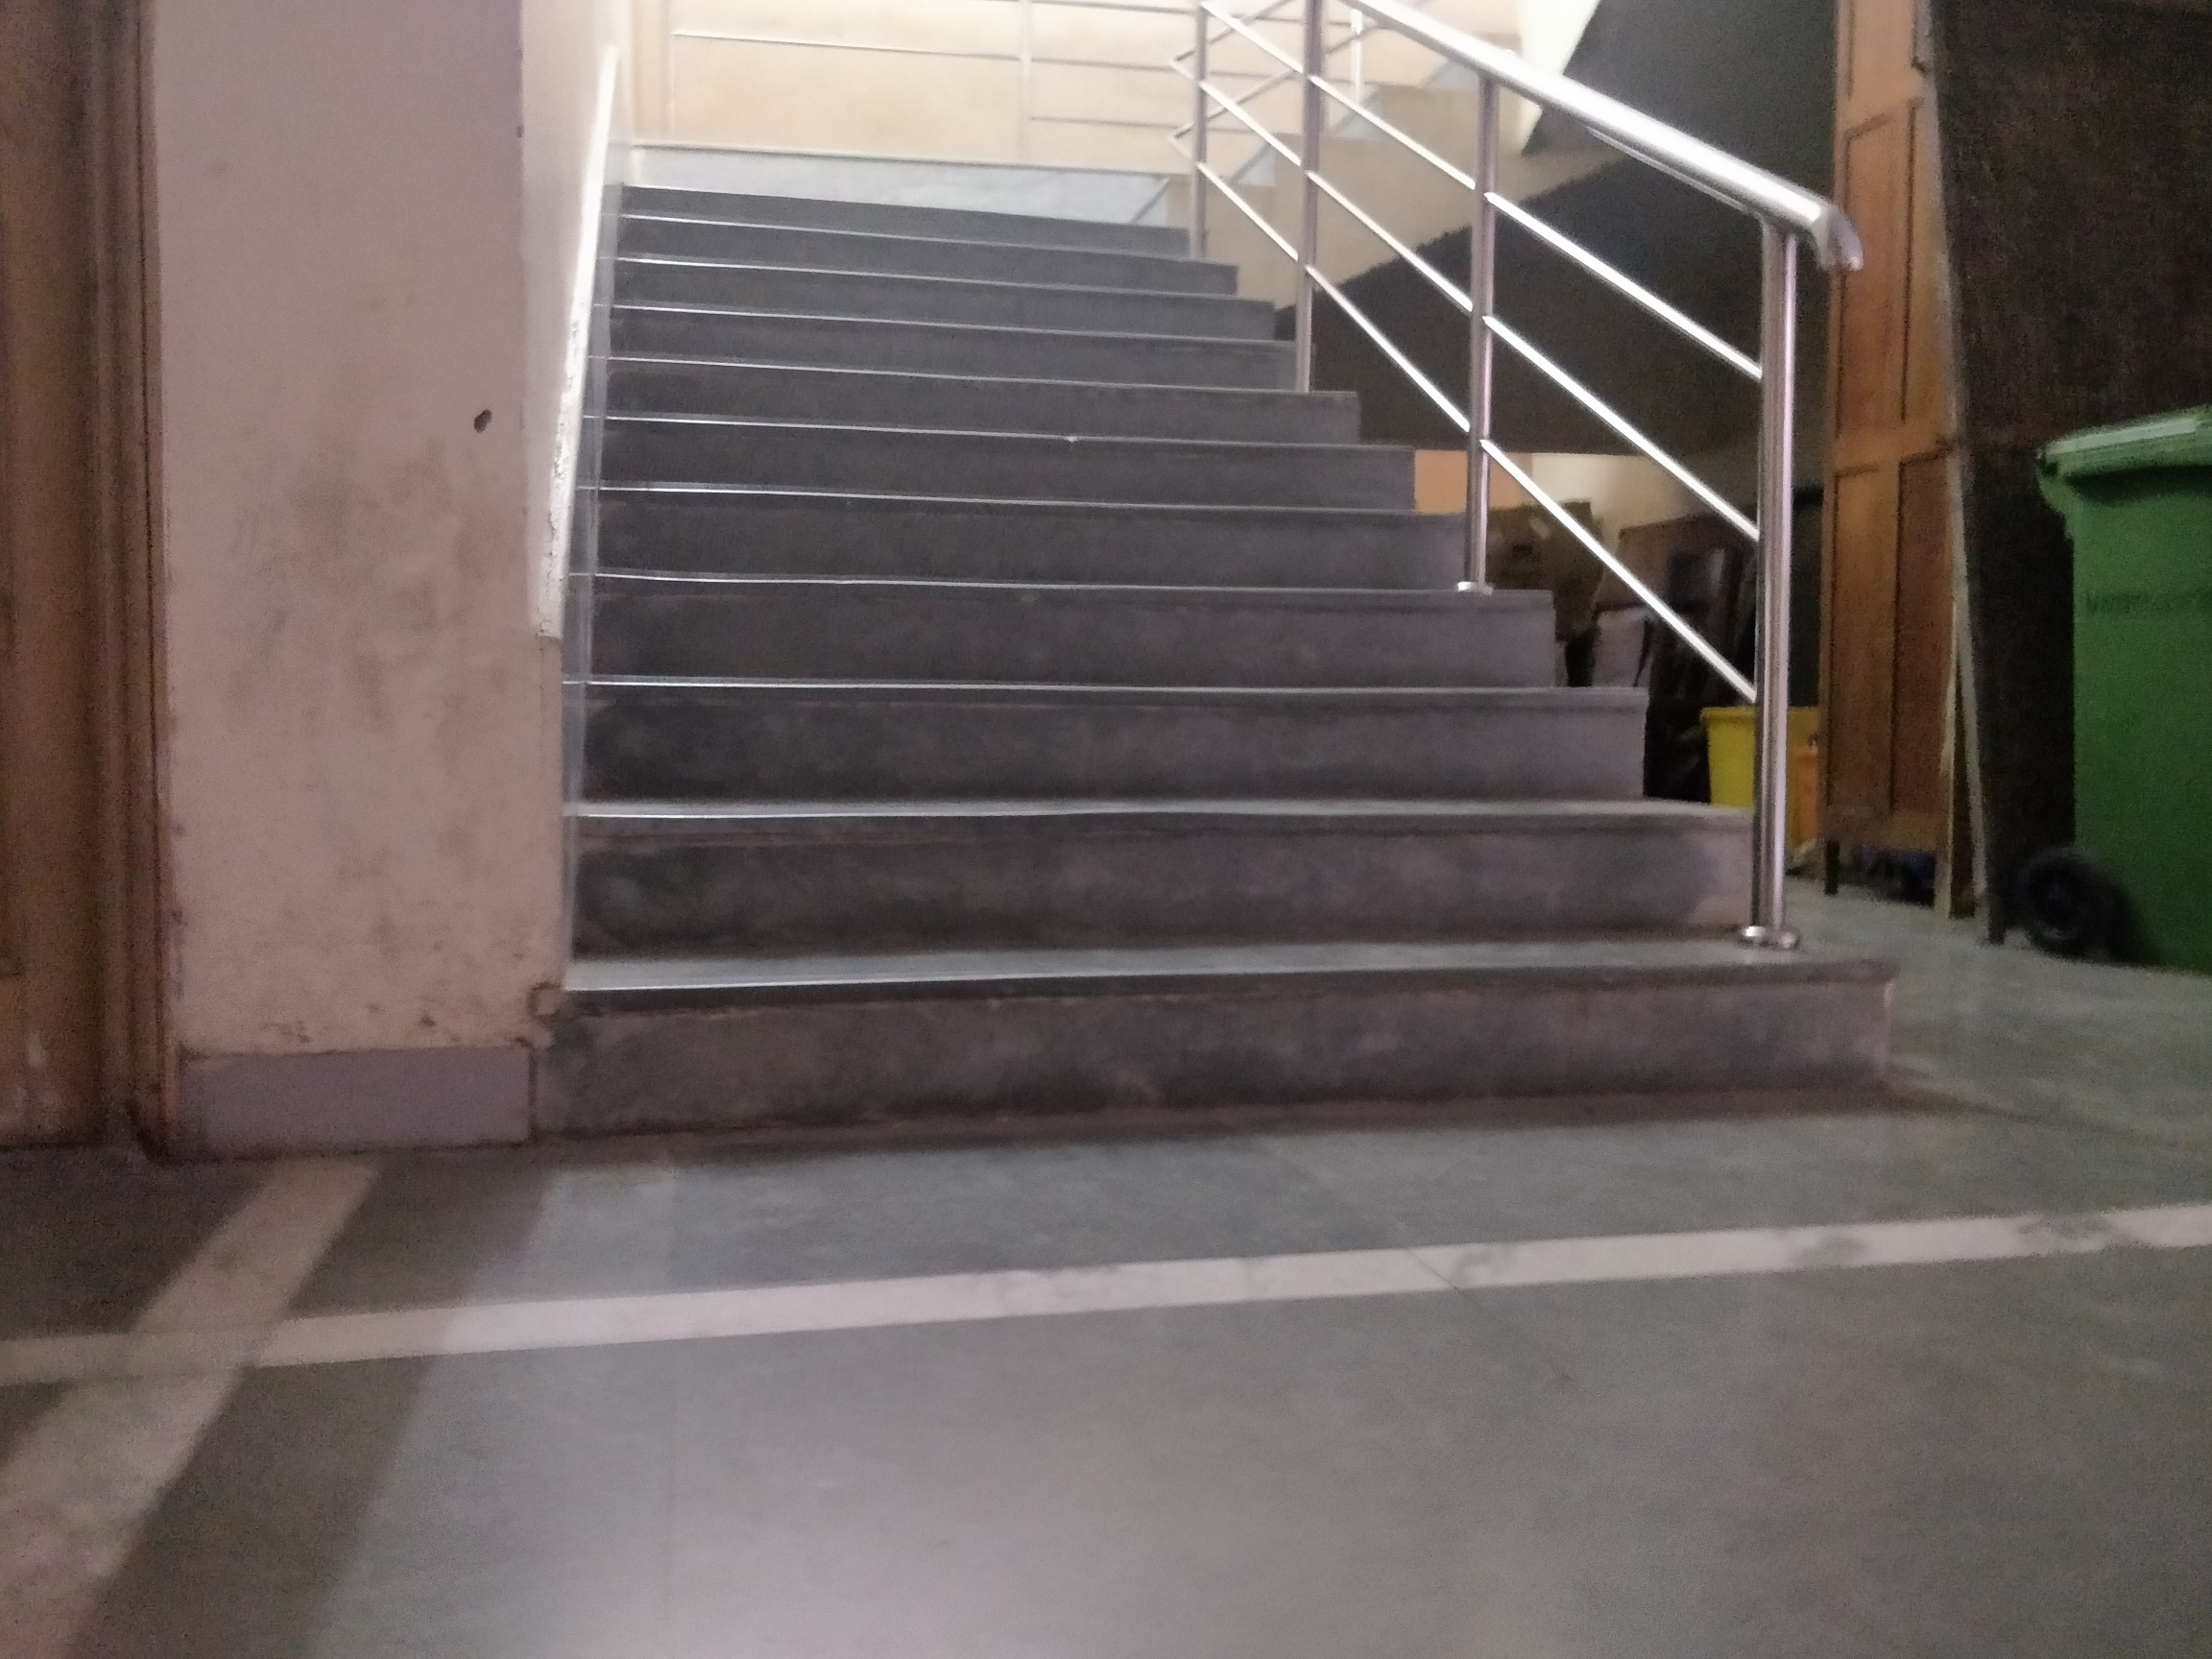stairs_up: (594, 167, 1829, 1114)
